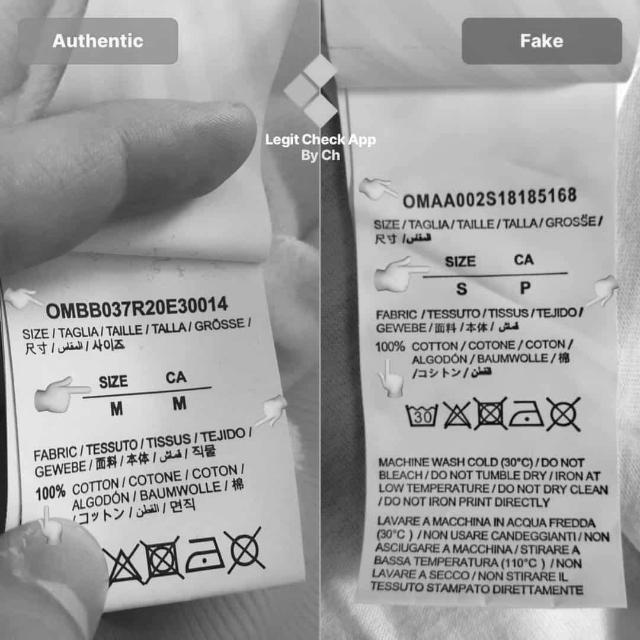30C: (404, 402, 440, 428)
DN_bleach: (99, 542, 150, 590), (442, 400, 472, 430)
DN_dry_clean: (220, 524, 268, 578), (545, 395, 583, 433)
DN_tumble_dry: (138, 532, 186, 586), (472, 394, 510, 432)
iron_low: (183, 534, 227, 576), (508, 399, 546, 428)
